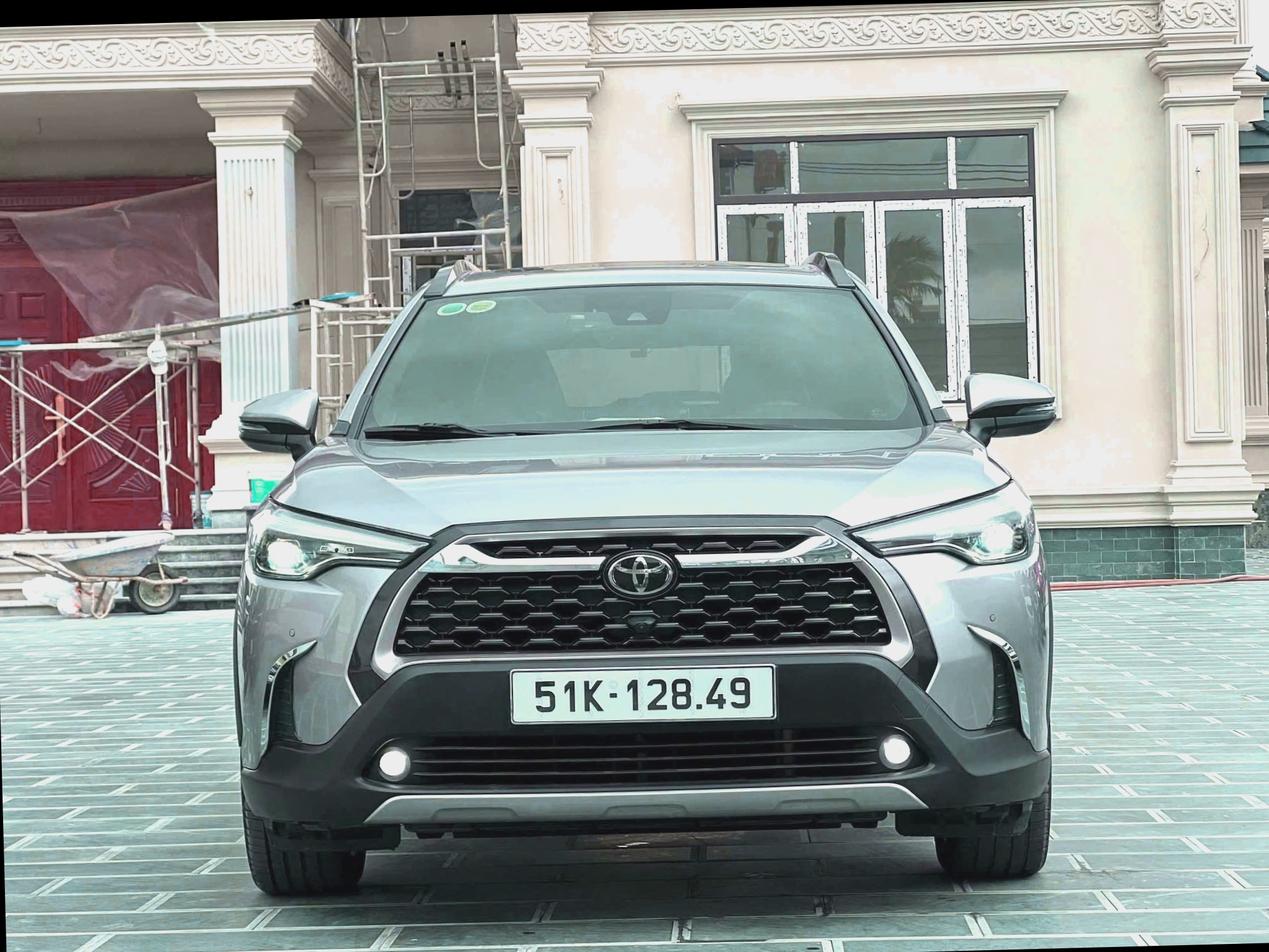Bien-so: (443, 675, 721, 740)
